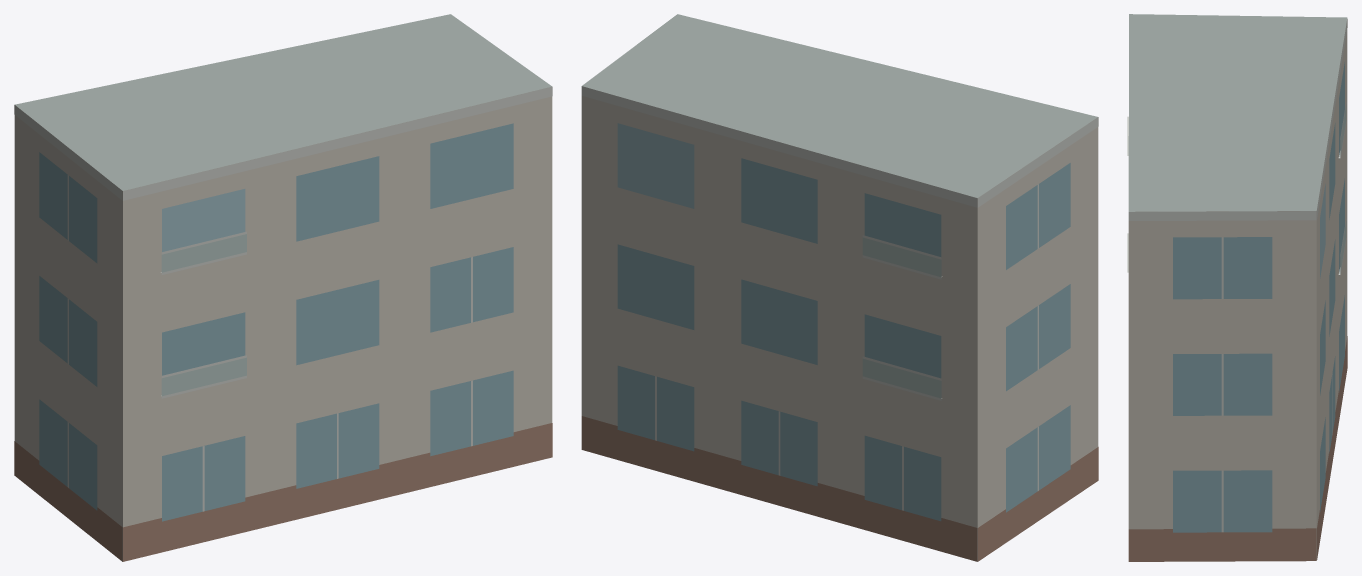
Rendered from survey-upis-32611080.glb.
3 renders of one model, left to right at view 1: azimuth 30°, elevation 25°; view 2: azimuth 150°, elevation 25°; view 3: azimuth 270°, elevation 25°, orthographic. The views are drawn at different scales.
Visible parts, largest first — view 1: survey-upis-32611080.tmp; view 2: survey-upis-32611080.tmp; view 3: survey-upis-32611080.tmp.
Boxes of the visible parts, bbox=[...] form: survey-upis-32611080.tmp: bbox=[14, 14, 552, 561]; survey-upis-32611080.tmp: bbox=[581, 14, 1098, 561]; survey-upis-32611080.tmp: bbox=[1127, 14, 1347, 561].
Size of the model in its own units: 11.1 by 9.15 by 5.22.
